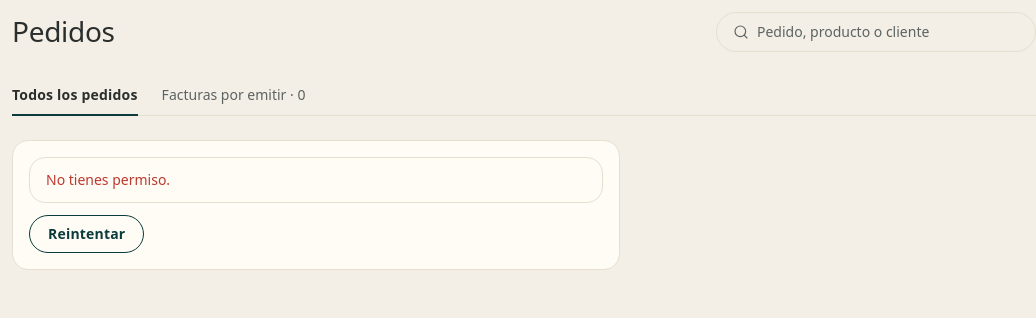
Test: Panel de pedidos · estados de la pantalla (SCRUM-130) › E8-H2 FE · CA1 lista y detalle: si la lista falla, muestra el error y deja reintentar
The image size is (1036, 318).
Expected: the text "No tienes permiso." is shown, [46, 170, 170, 189]
Click the button "Reintentar": (87, 234) [29, 215, 144, 253]
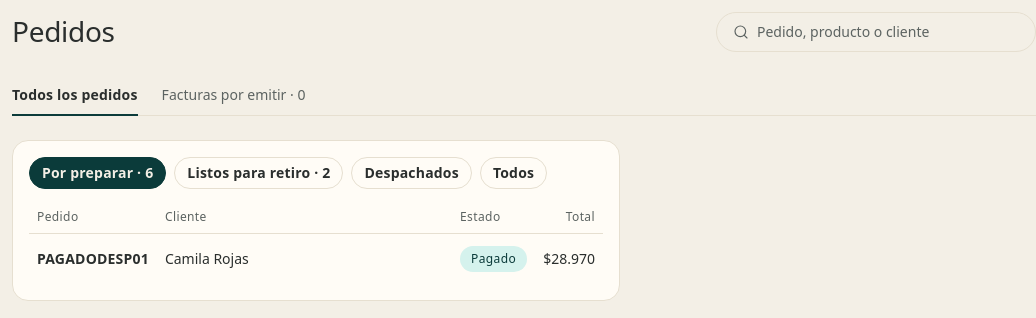
Expected: the table named "Pedidos" is shown, [29, 201, 603, 284]
